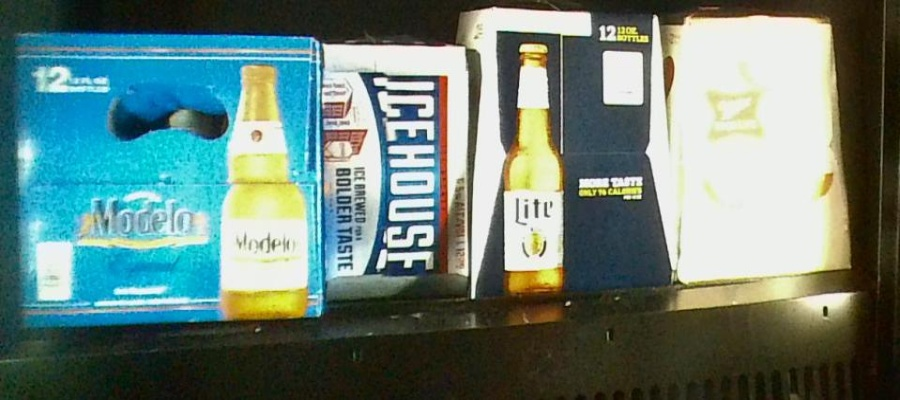bottle: (1, 30, 324, 319), (474, 4, 671, 302), (668, 14, 849, 283), (325, 40, 468, 301)
